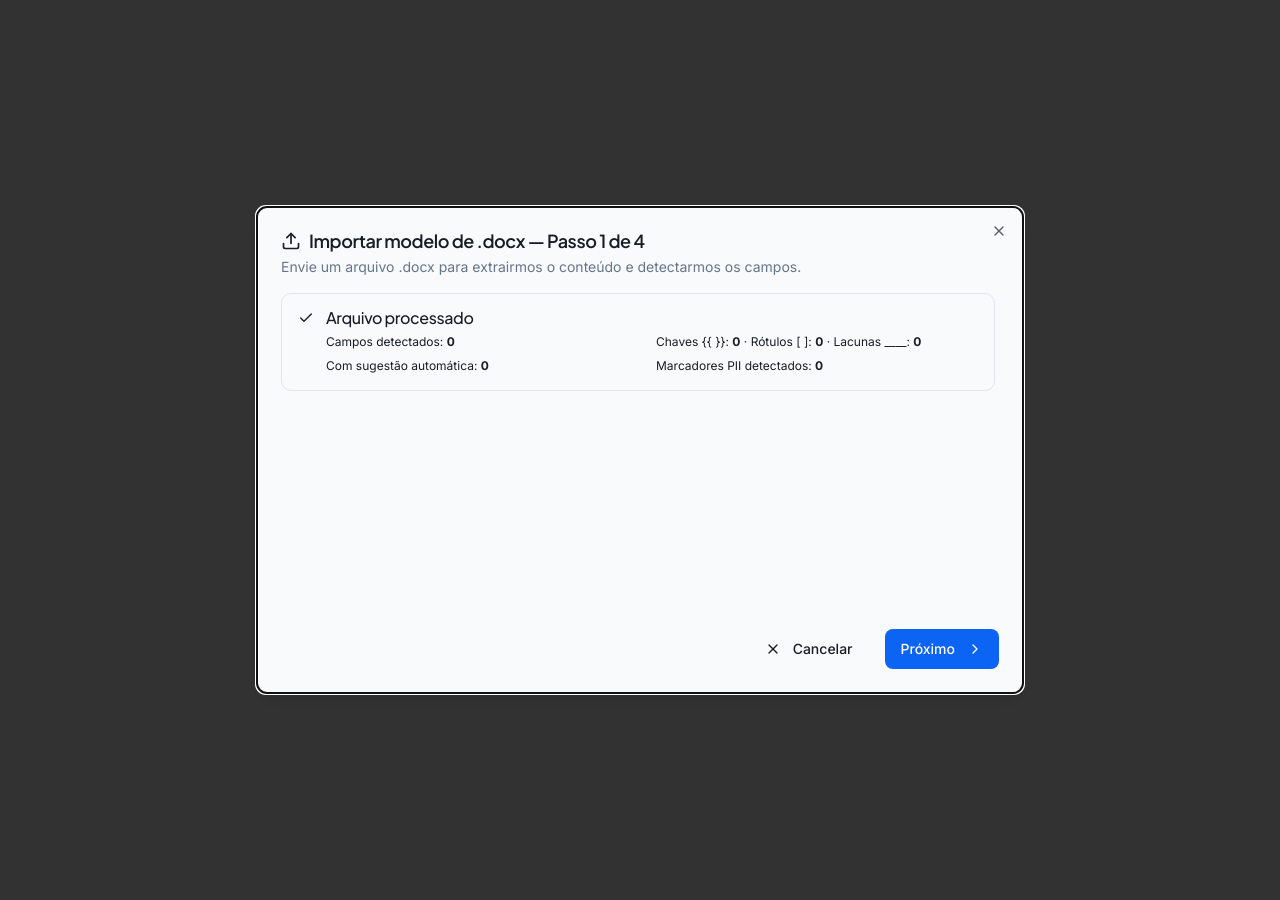
Test case: ImportDocxDialog — tela de mapeamento › 0 detecções: 'Nada a mapear' no passo 2 e gate de 0 variáveis bloqueia a criação no passo 4
This screenshot has width=1280, height=900.
Earlier steps of the test are not shown.
Later steps or results of the test are not shown.
Expected: the heading "Arquivo processado" is shown, 326,307 -> 474,328
Click the button "Próximo" at (942, 649), box 884,629 -> 999,669
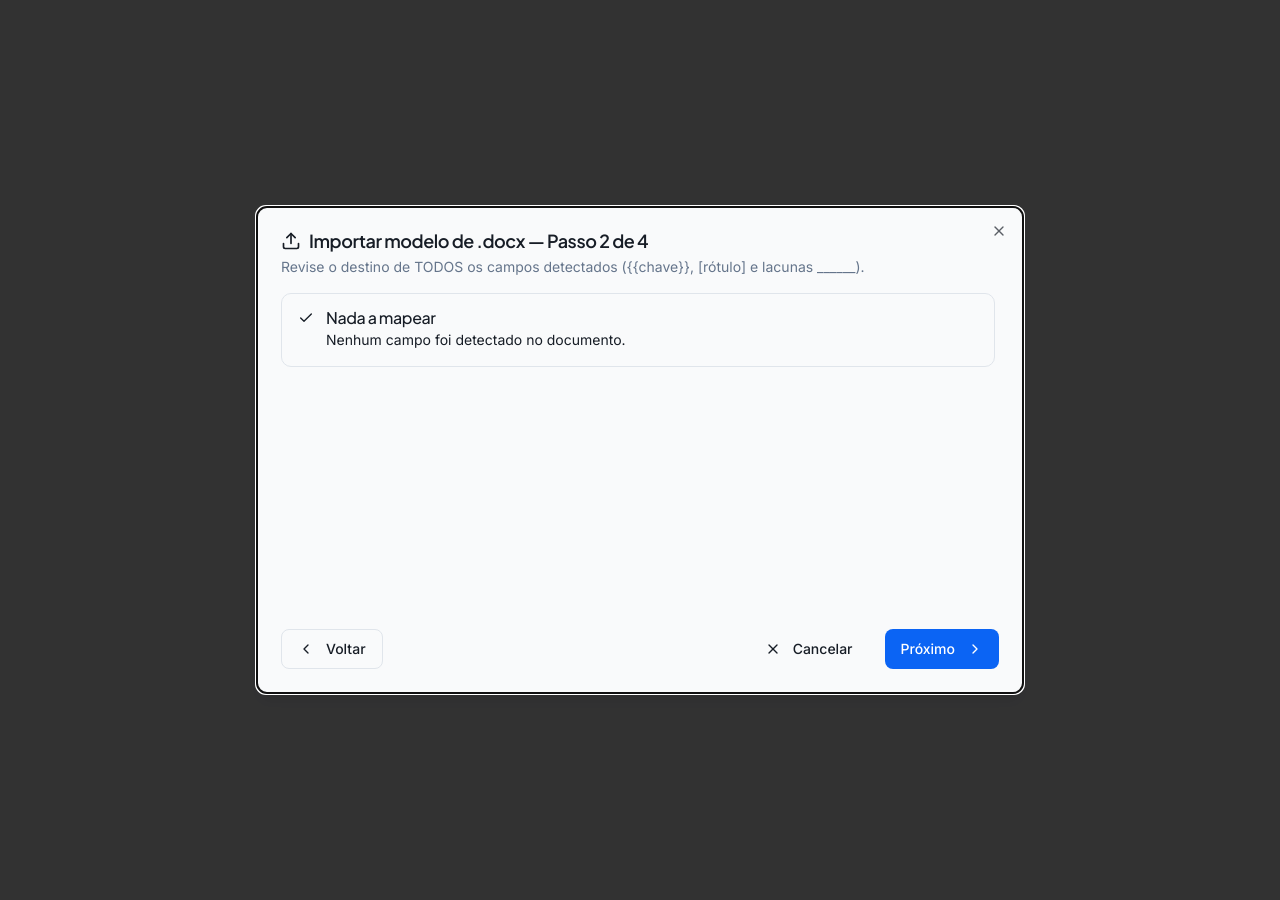
Expected: the heading "Nada a mapear" is shown, 326,307 -> 436,328
Click the button "Próximo" at (942, 649), box 884,629 -> 999,669
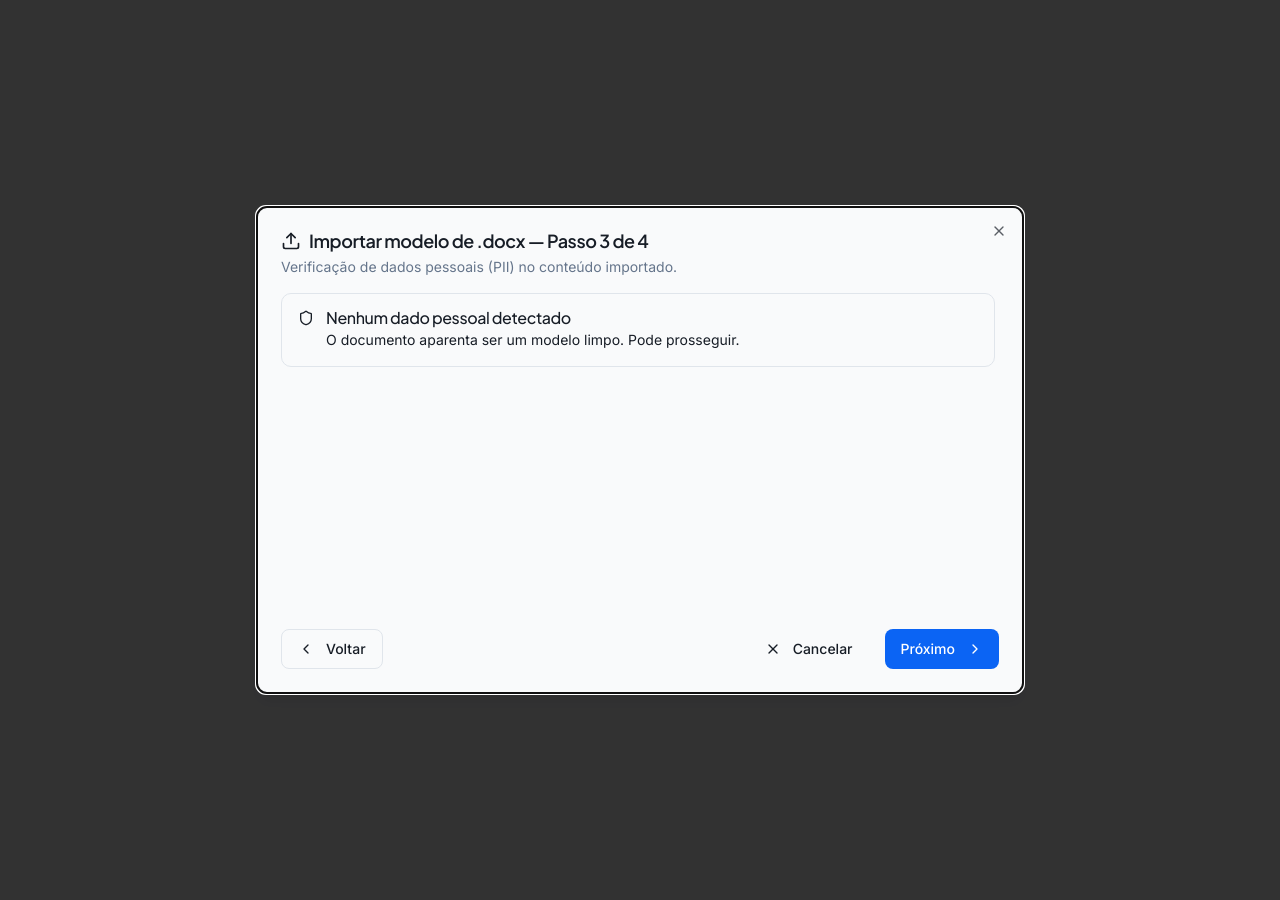
Click the button "Próximo" at (942, 649), box 884,629 -> 999,669
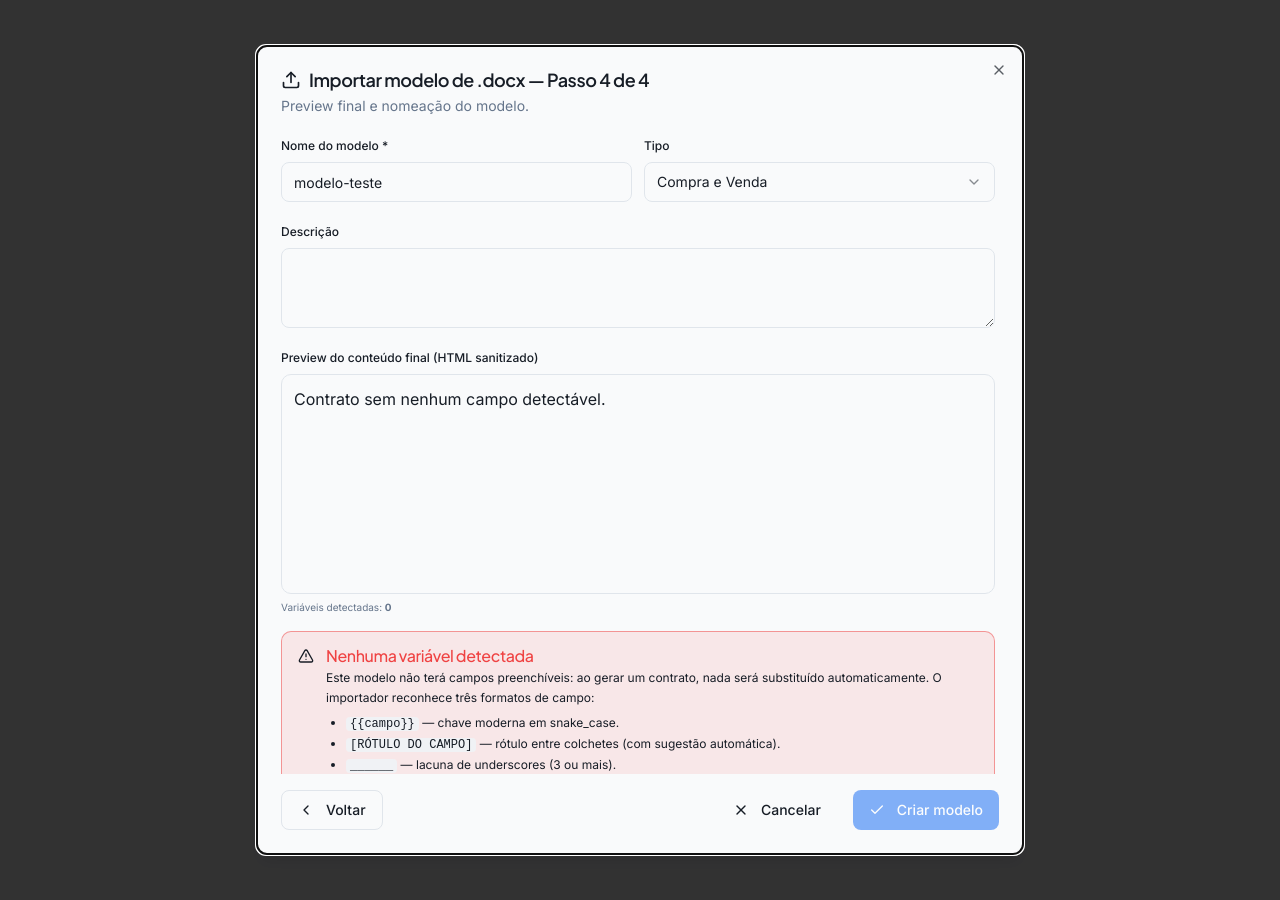
Expected: the heading "Nenhuma variável detectada" is shown, 326,645 -> 534,666
Expected: the button "Criar modelo" is disabled, 853,790 -> 999,830
